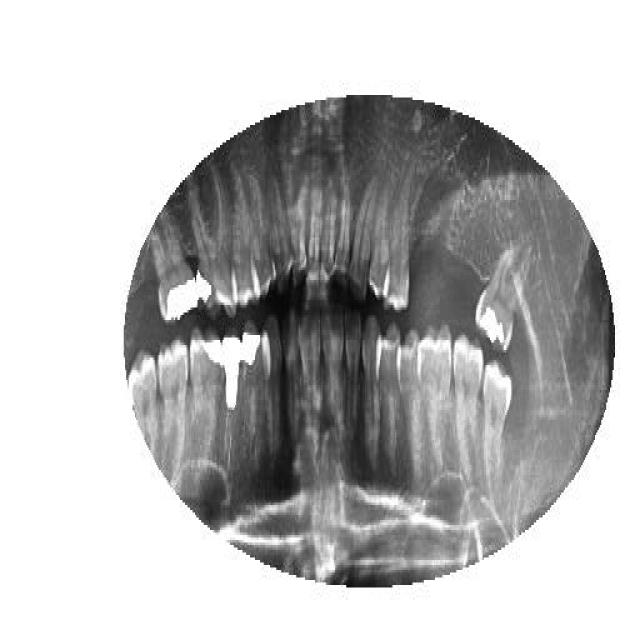Fillings: (190, 170, 238, 320), (477, 235, 532, 353), (150, 210, 196, 325), (192, 333, 222, 465), (240, 325, 261, 453)
Implant: (221, 338, 241, 472)
